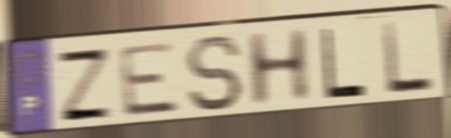E: (117, 39, 184, 120)
H: (243, 26, 314, 111)
L: (380, 19, 437, 97), (320, 25, 367, 101)
S: (183, 33, 245, 115)
Z: (53, 47, 116, 124)
